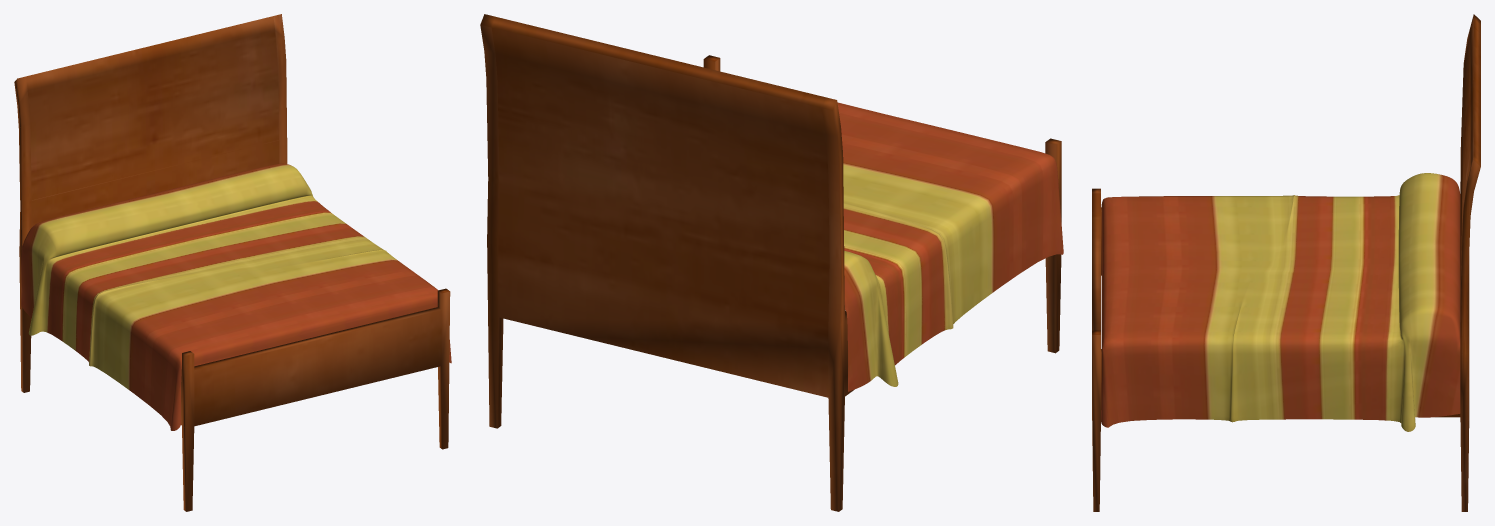
Rendered from sh-scopia-bed1.glb.
The picture shows the model from 3 angles, left to right: view 1: azimuth 30°, elevation 25°; view 2: azimuth 150°, elevation 25°; view 3: azimuth 270°, elevation 25°; orthographic projection. The views are drawn at different scales.
Visible parts, largest first — view 1: Colcha_Plane.002, bed_Plane; view 2: bed_Plane, Colcha_Plane.002; view 3: Colcha_Plane.002, bed_Plane.
Boxes of the visible parts, box(x1,y1,x2,y2) form: Colcha_Plane.002: box(21, 163, 451, 430); bed_Plane: box(14, 14, 450, 511); bed_Plane: box(480, 14, 1061, 511); Colcha_Plane.002: box(837, 102, 1063, 391); Colcha_Plane.002: box(1101, 173, 1460, 431); bed_Plane: box(1092, 14, 1480, 511).
Size of the model in its own units: 1 by 1 by 1.
2 materials, 2 textured.
